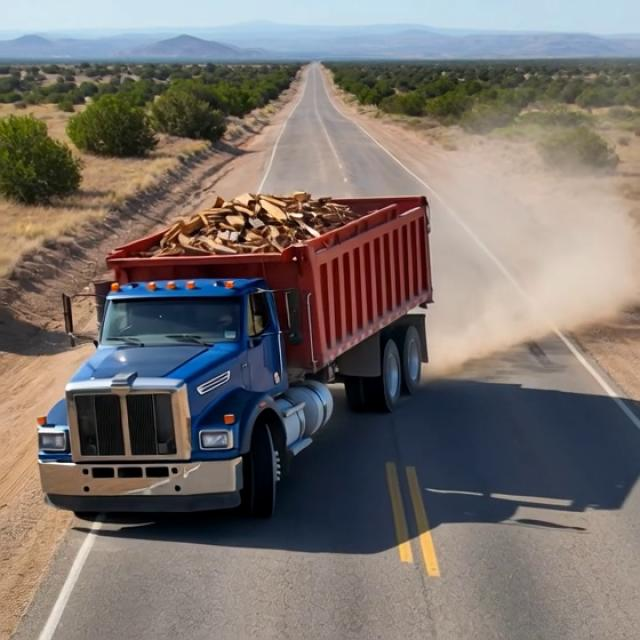trailer: (99, 189, 428, 268)
truck: (40, 171, 441, 510)
